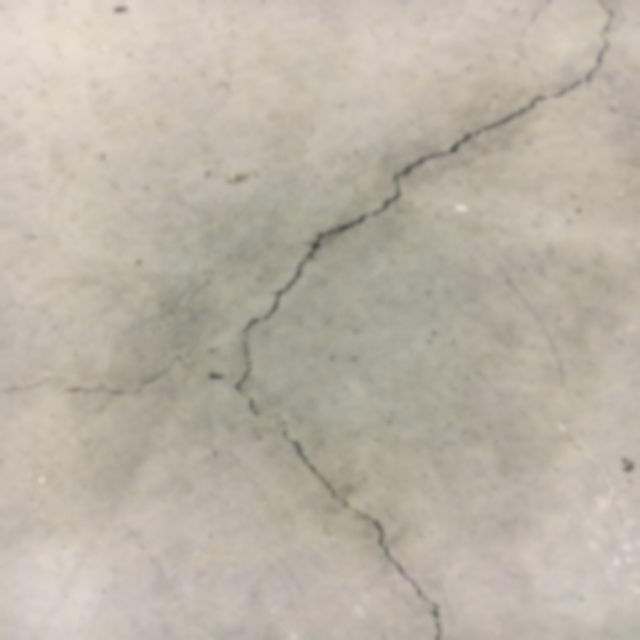SurfaceCrack: (222, 1, 629, 385)
